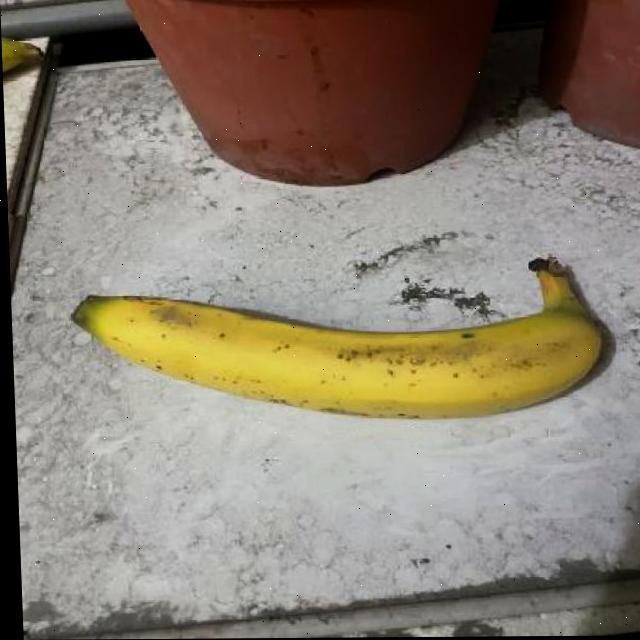banana: (64, 248, 619, 428)
